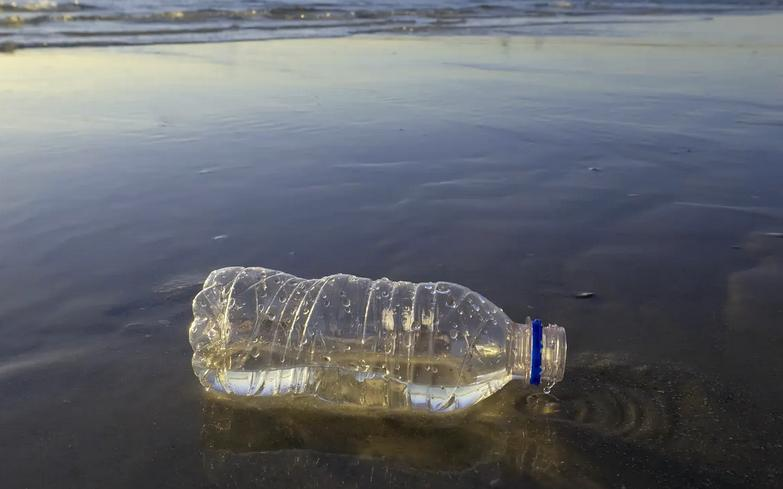Plastic: (183, 262, 571, 429)
